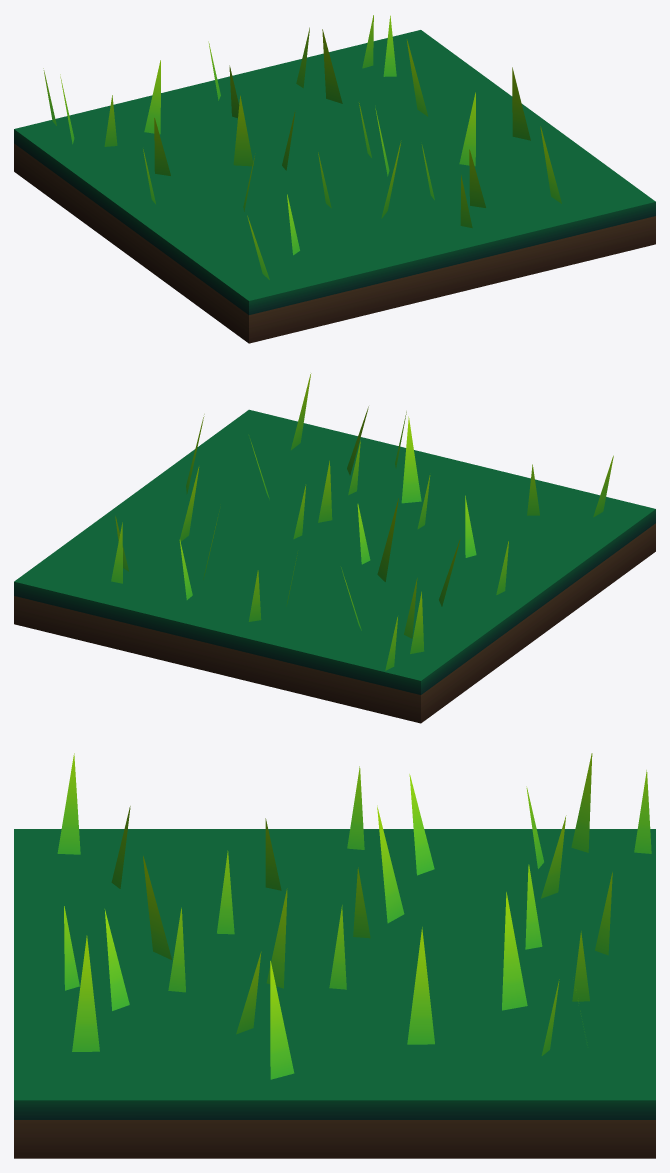
Rendered from Grass_Patch_1A.fbx.
3 views of the same model, one above another, from view 1: azimuth 30°, elevation 25°; view 2: azimuth 150°, elevation 25°; view 3: azimuth 270°, elevation 25° (orthographic). The views are drawn at different scales.
Visible parts, largest first — view 1: Grass_Patch_1A; view 2: Grass_Patch_1A; view 3: Grass_Patch_1A.
Boxes of the visible parts, x1,y1,x2,y2 form: Grass_Patch_1A: (14, 15, 655, 343); Grass_Patch_1A: (14, 373, 655, 723); Grass_Patch_1A: (14, 753, 655, 1158).
Size of the model in its own units: 400 by 114 by 400.
